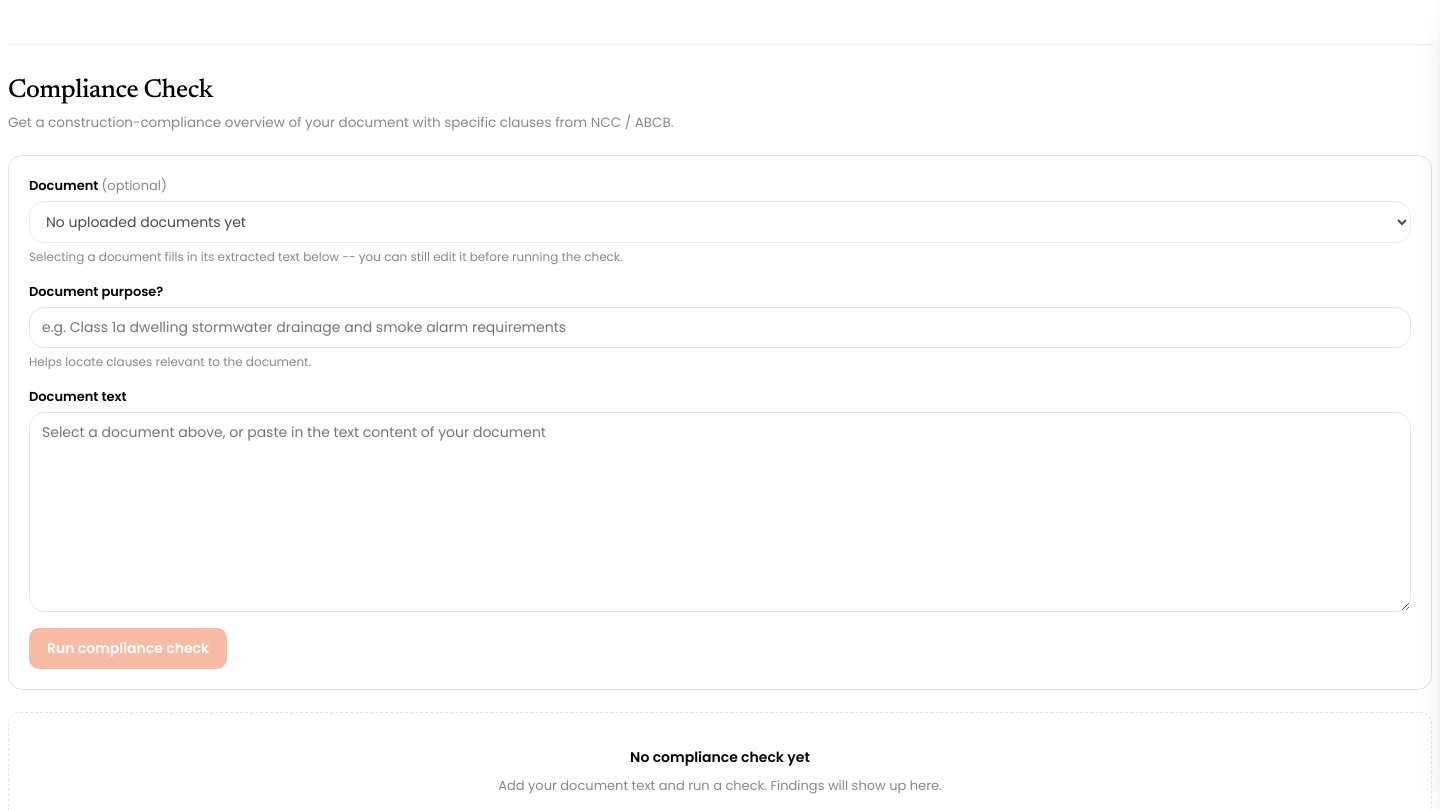
Test: ComplianceCheck — running a check › shows the backend error message when the check fails
Replace the text in the field labelled "Document purpose?" with "footing requirements". click: (720, 327)
box: 29,307 -> 1411,348
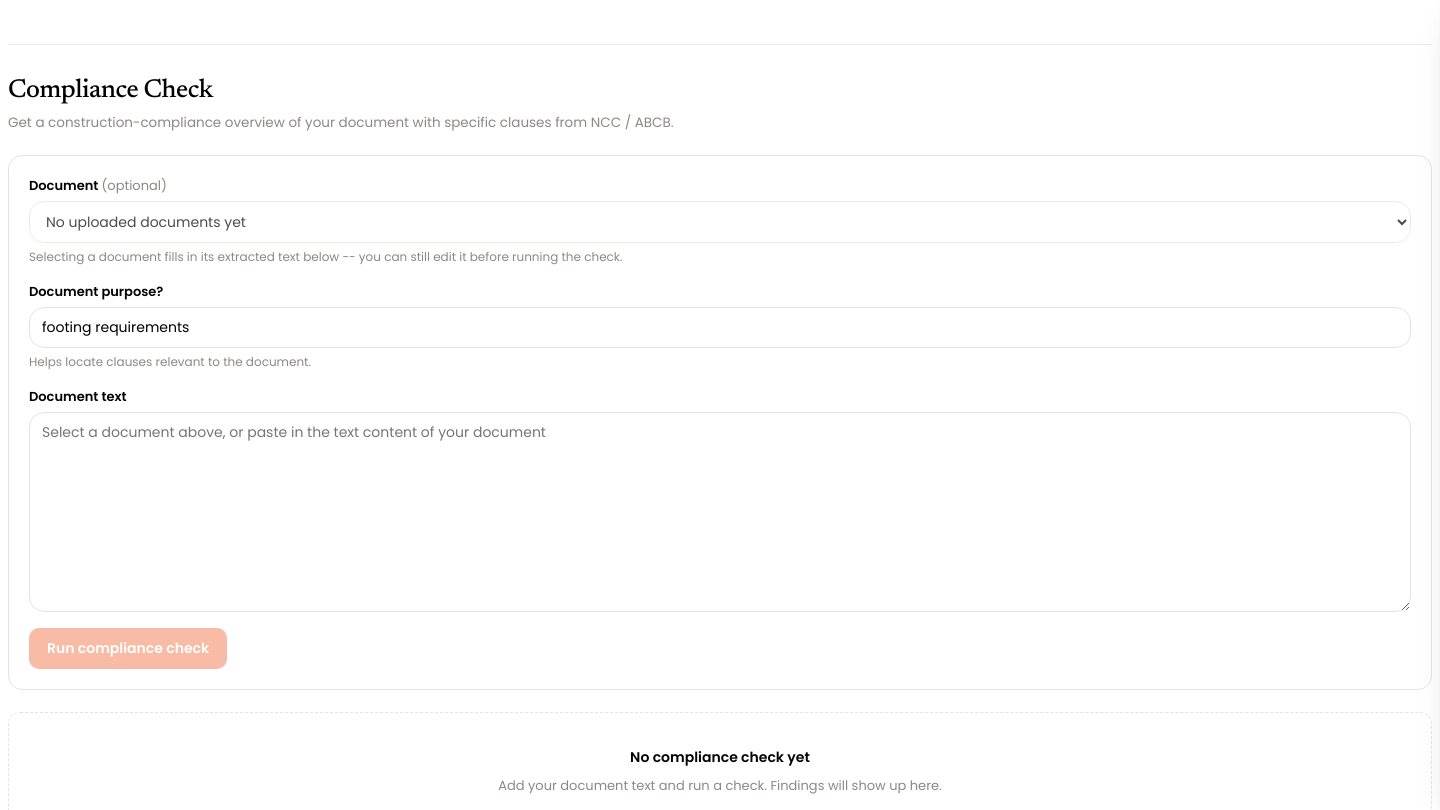
Replace the text in the text box labelled "Document text" with "Footings: 600mm deep.". click: (720, 512)
box: 29,412 -> 1411,612
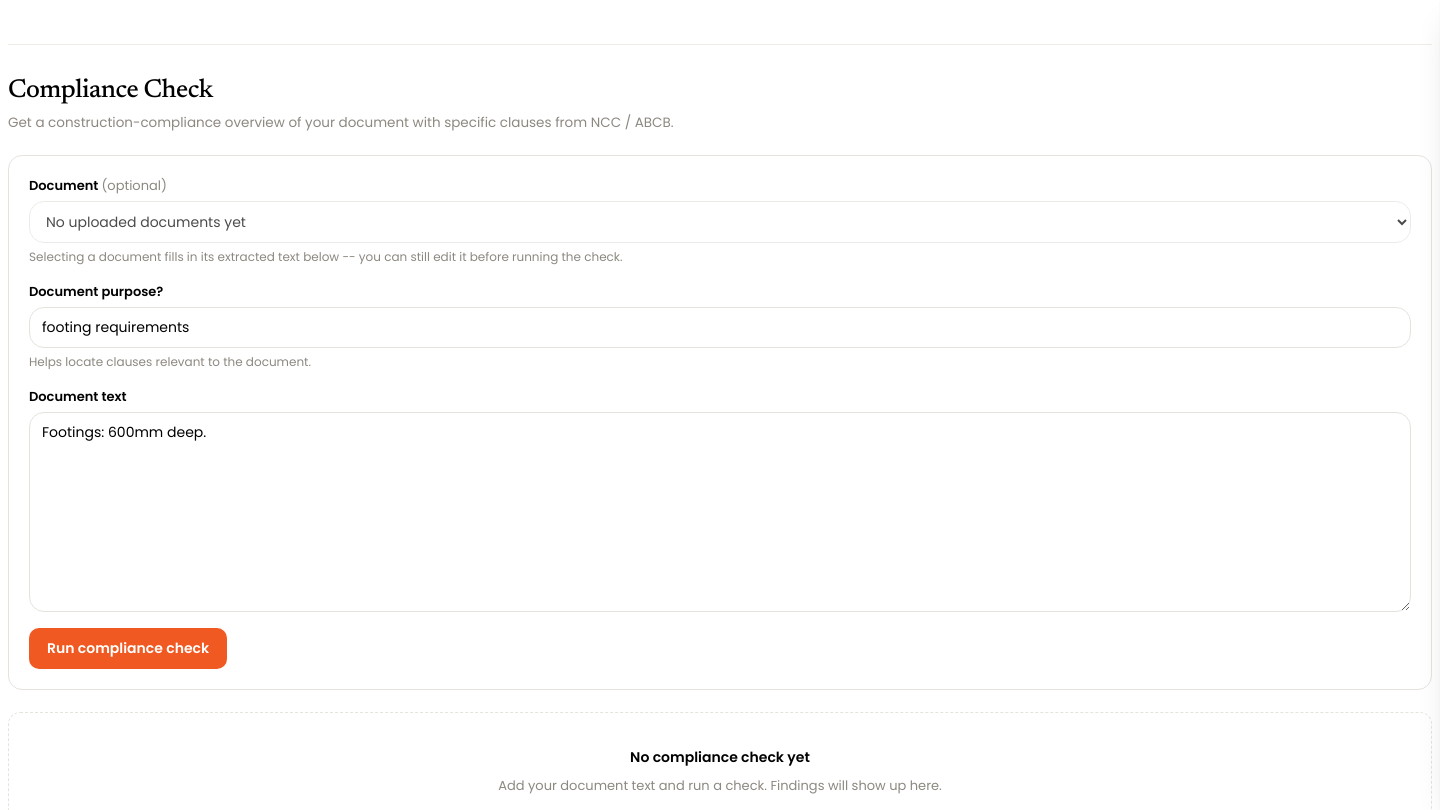
Click the button "Run compliance check". click: (128, 648)
box: 29,628 -> 227,669
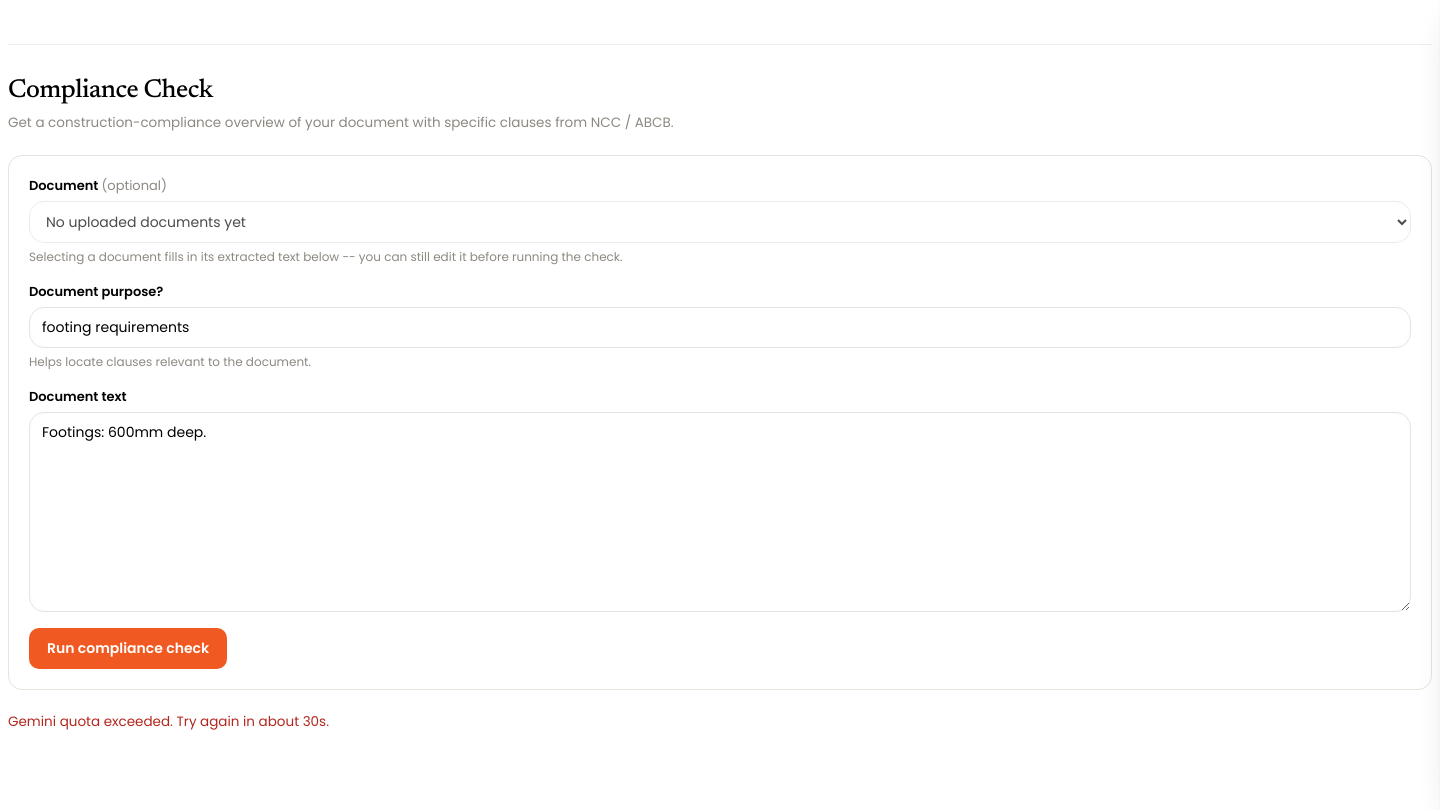
Expected: the message reads "Gemini quota exceeded. Try again in about 30s.", 8,712 -> 329,731
Expected: the text "No compliance check yet" is gone
